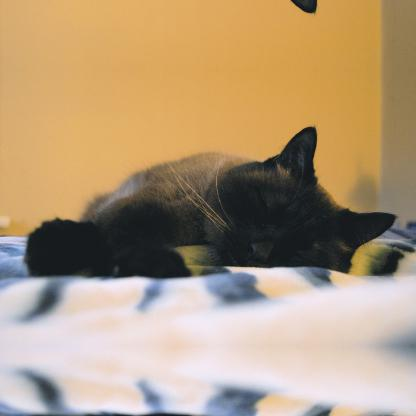Cat: (24, 122, 402, 276)
